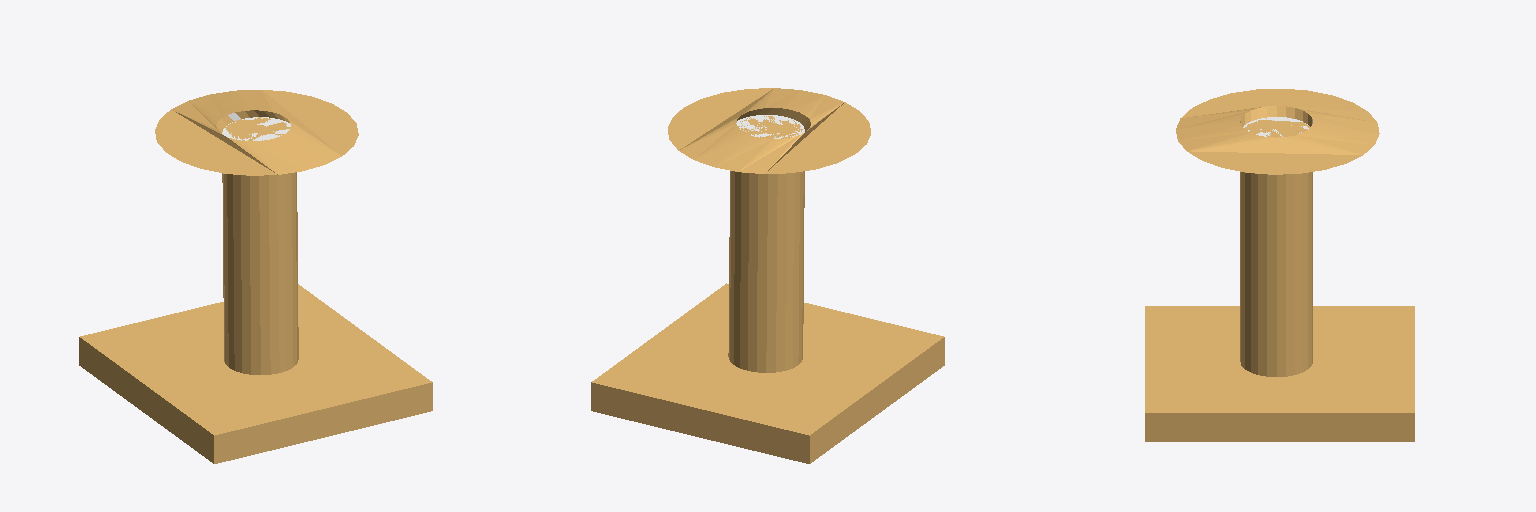
The model's file is Tampon.obj.
The picture shows the model from 3 angles: view 1: azimuth 30°, elevation 25°; view 2: azimuth 150°, elevation 25°; view 3: azimuth 270°, elevation 25°; orthographic projection.
Parts seen in each view (by area): view 1: Mesh1 Model; view 2: Mesh1 Model; view 3: Mesh1 Model.
Boxes of the visible parts, box(x1,y1,x2,y2) form: Mesh1 Model: box(79, 90, 432, 463); Mesh1 Model: box(591, 88, 944, 463); Mesh1 Model: box(1145, 89, 1414, 441).
Bounding box in the file's own units: 1.11 × 1.29 × 1.19.